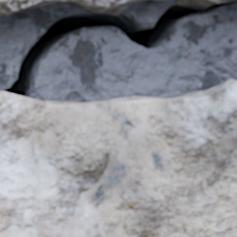brick: (0, 80, 236, 236), (0, 0, 140, 14), (179, 0, 229, 6)
crack: (2, 0, 234, 98)
